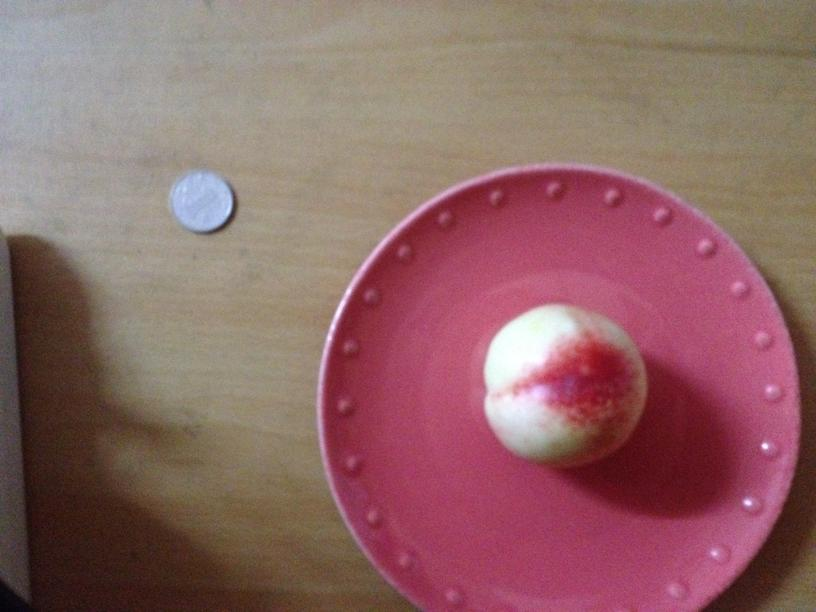coin: (167, 171, 235, 232)
peach: (483, 308, 645, 462)
